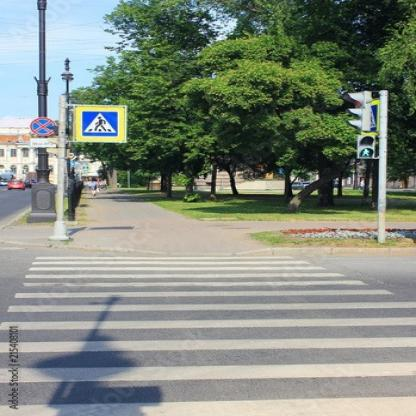Crosswalk: (17, 250, 416, 364)
Walk: (358, 146, 377, 160)
